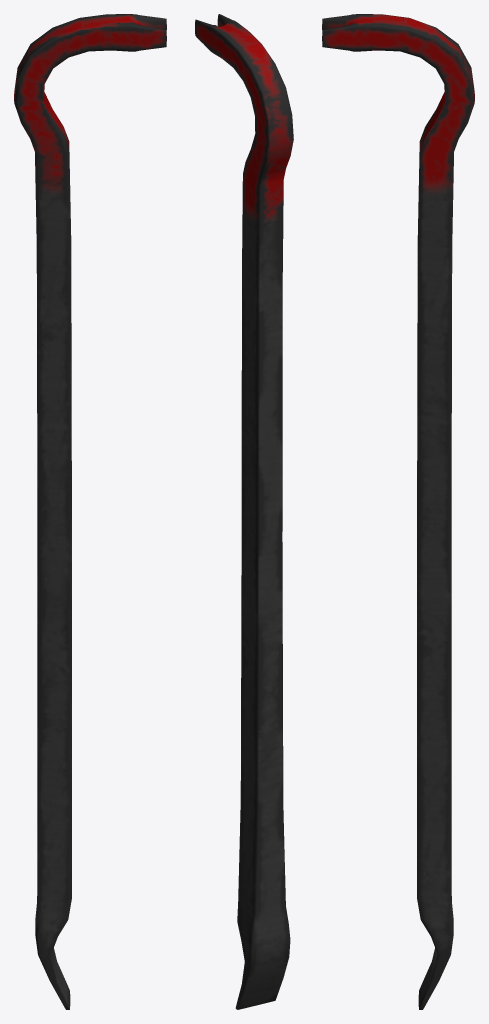
Rendered from バール(item).fbx.
3 renders of one model, left to right at view 1: azimuth 90°, elevation 25°; view 2: azimuth 210°, elevation 25°; view 3: azimuth 270°, elevation 25°, orthographic. The views are drawn at different scales.
Visible parts, largest first — view 1: pCube1; view 2: pCube1; view 3: pCube1.
Part boxes in pixels (<box>): pCube1: <box>14,14,166,1009</box>; pCube1: <box>195,14,293,1009</box>; pCube1: <box>322,14,474,1009</box>.
Size of the model in its own units: 0.3686 by 8.73 by 1.23.
Materials: 1 (1 with a texture image).
